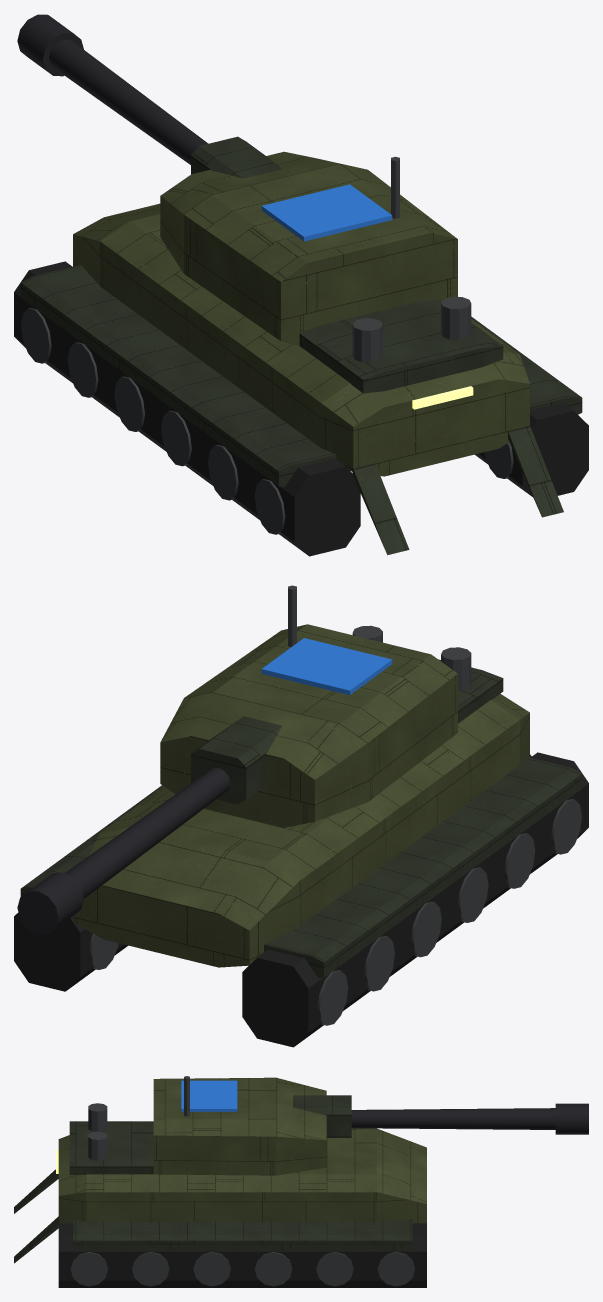
Rendered from militar_tanque_cerco.glb.
3 renders of one model, top to bottom at view 1: azimuth 30°, elevation 25°; view 2: azimuth 150°, elevation 25°; view 3: azimuth 270°, elevation 25°, orthographic. The views are drawn at different scales.
Visible parts, largest first — view 1: Body_Hull, Body_HullDark, Turret_Hull, Body_Track, Body_Metal, Turret_Gun, Turret_TeamColor, Turret_HullDark; view 2: Body_Hull, Turret_Hull, Body_HullDark, Body_Track, Body_Metal, Turret_Gun, Turret_HullDark, Turret_TeamColor; view 3: Body_Hull, Body_HullDark, Turret_Hull, Body_Track, Body_Metal, Turret_Gun, Turret_HullDark, Turret_TeamColor.
Part boxes in pixels (box(x1,y1,x2,y2)): Body_Hull: box(73, 203, 529, 476); Body_HullDark: box(20, 265, 582, 555); Turret_Hull: box(160, 151, 457, 345); Body_Track: box(14, 261, 588, 556); Body_Metal: box(21, 296, 513, 534); Turret_Gun: box(17, 14, 208, 164); Turret_TeamColor: box(261, 184, 392, 241); Turret_HullDark: box(191, 136, 281, 178); Body_Hull: box(73, 693, 529, 967); Turret_Hull: box(160, 624, 457, 827); Body_HullDark: box(20, 659, 582, 977); Body_Track: box(14, 752, 588, 1047); Body_Metal: box(89, 625, 581, 1025); Turret_Gun: box(17, 768, 230, 934); Turret_HullDark: box(191, 716, 281, 804); Turret_TeamColor: box(261, 638, 392, 694); Body_Hull: box(58, 1128, 426, 1223); Body_HullDark: box(14, 1121, 412, 1263); Turret_Hull: box(153, 1077, 326, 1175); Body_Track: box(58, 1223, 426, 1287); Body_Metal: box(70, 1103, 414, 1286); Turret_Gun: box(351, 1103, 588, 1134); Turret_HullDark: box(293, 1095, 351, 1137); Turret_TeamColor: box(181, 1080, 237, 1111).
Size of the model in its own units: 4.12 by 3.65 by 10.3.
Materials: 7 (2 with a texture image).
